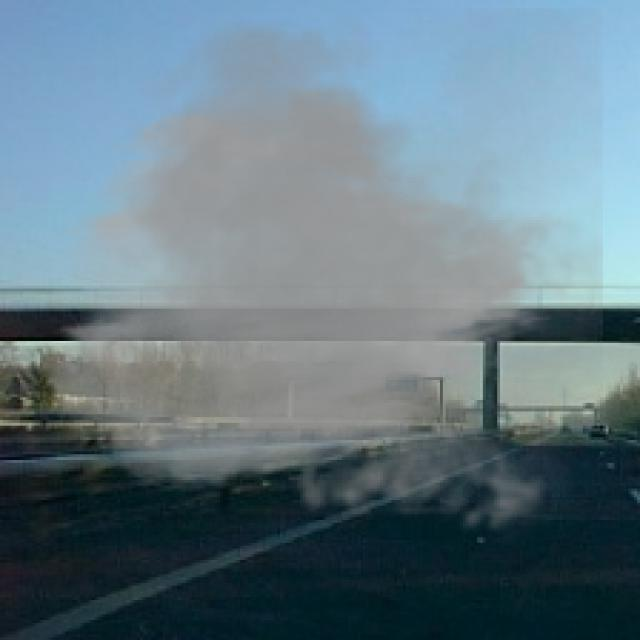Smoke: (37, 9, 603, 548)
